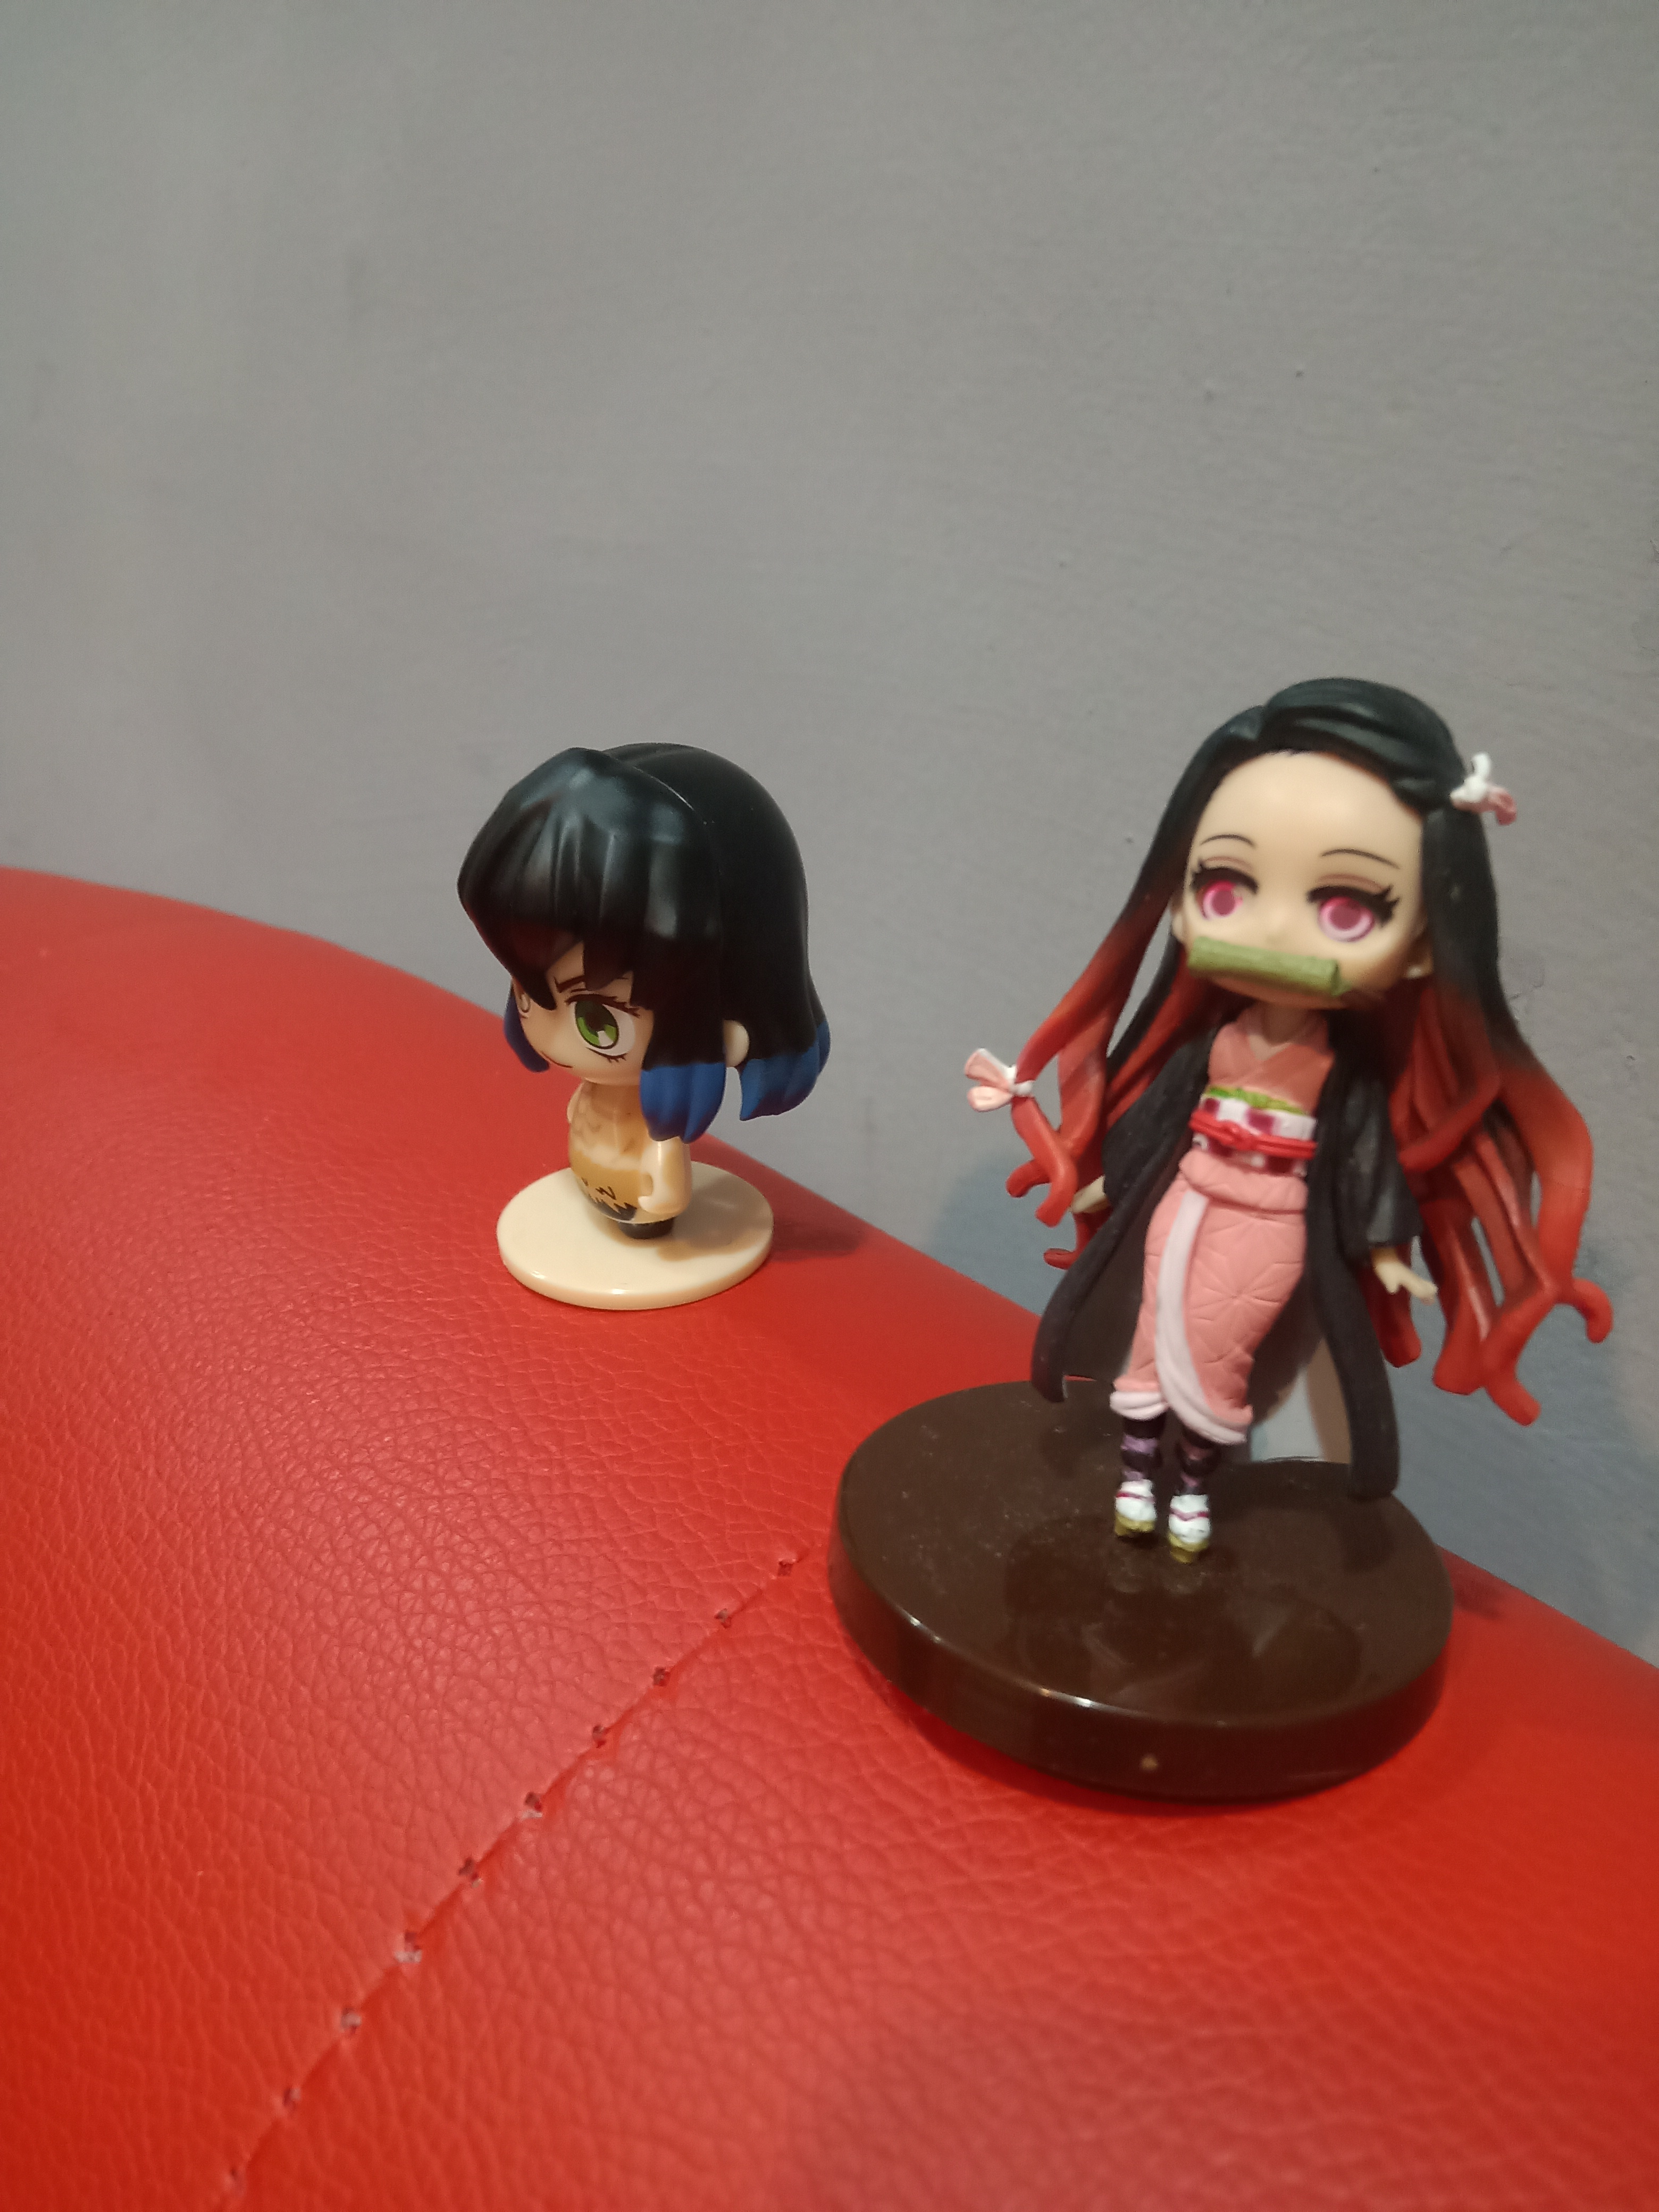Inosuke: (430, 726, 847, 1320)
Nezuko: (816, 662, 1628, 1824)
